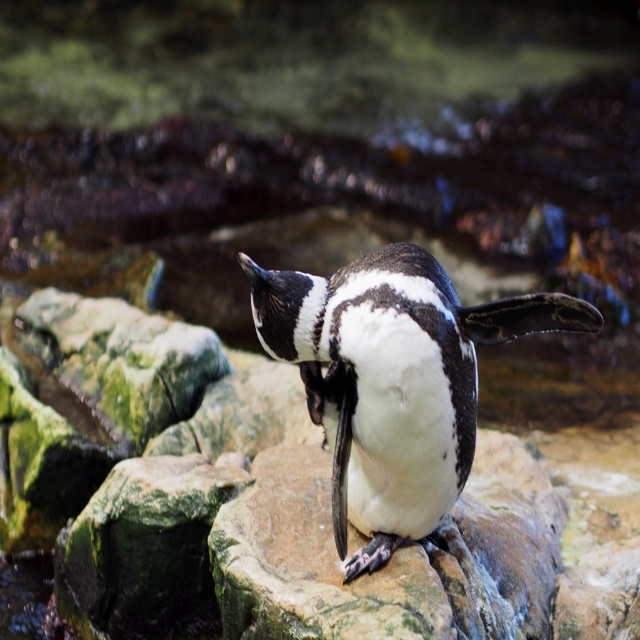Penguin: (241, 241, 566, 584)
